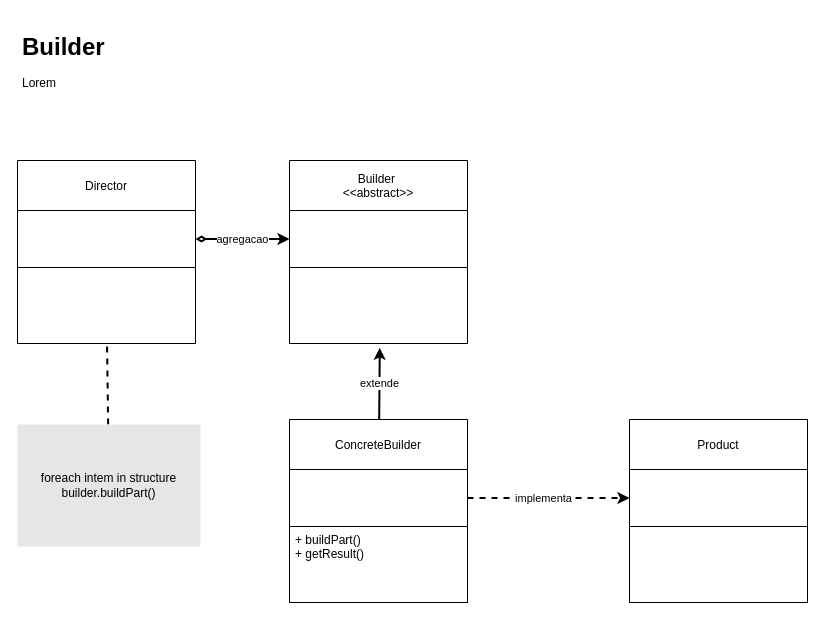
Some shapes in this 825 by 622 pixel diagram are drawn without their labels. Each missing label, with the centre of its shape:
"+ buildPart()" belongs at point (378, 305).
"+ constructor()" belongs at point (106, 305).
"- builder" belongs at point (106, 239).
